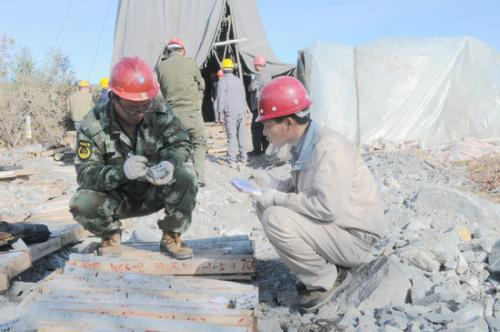boots: (296, 267, 347, 311), (159, 230, 193, 259), (97, 231, 122, 256)
gloves: (145, 159, 175, 185), (123, 155, 149, 179), (249, 187, 275, 210)
hard-hat: (254, 76, 311, 123), (108, 56, 160, 102), (166, 37, 184, 49), (221, 57, 234, 72)
person: (248, 74, 387, 310), (69, 56, 199, 260), (153, 37, 208, 186), (215, 57, 252, 167)
ppe-suit: (250, 119, 387, 292), (68, 91, 199, 238)
